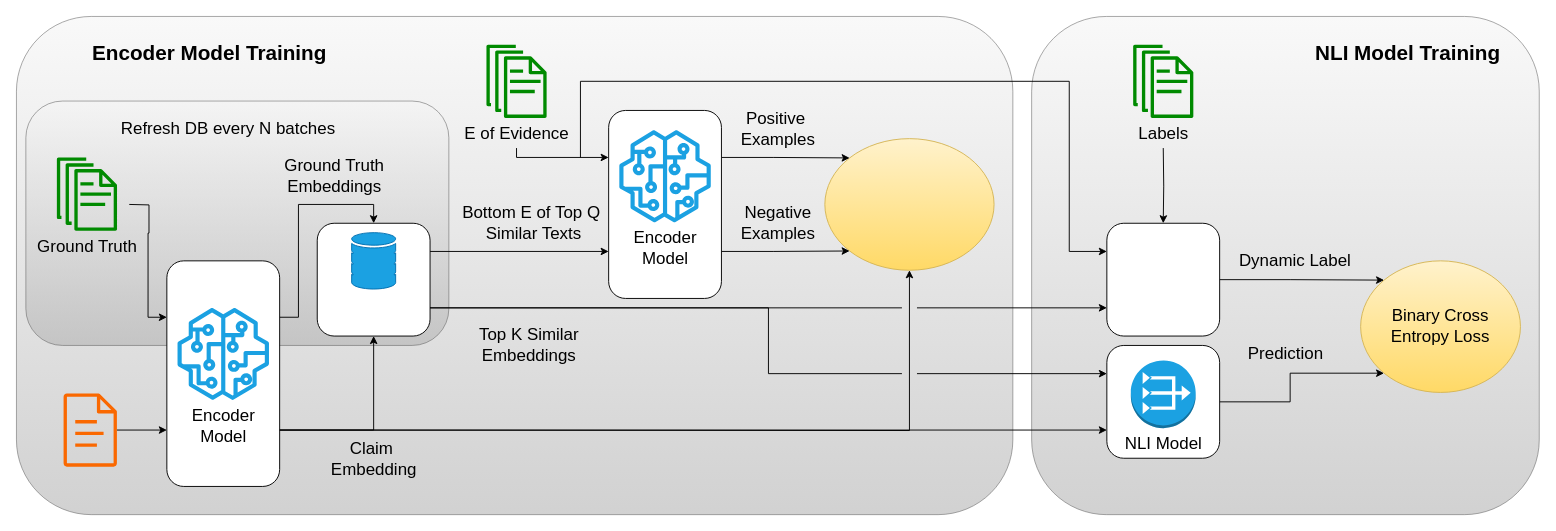
Image size: 1556x531. Some labels were removed from this diagram. The shapes that lost their labels are listed below. From the top down, each one's centre as x and y in pixels, then its label:
At (909,204): "Cosine Embedding Loss".
At (373,260): "Vector Database".
At (1163,279): "Dynamic Label Adapter".
At (90,429): "Claim".
